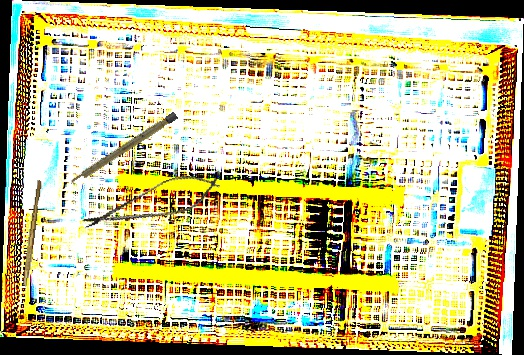Micro Scissor: (77, 164, 226, 243)
Scalpel Handle: (68, 111, 179, 187), (22, 179, 43, 288)
